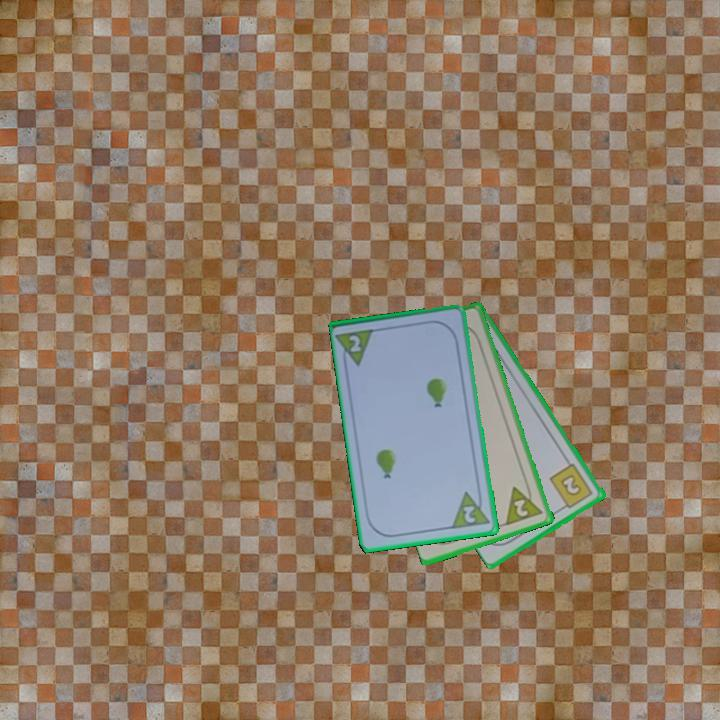2b: (546, 460, 596, 513)
2p: (503, 479, 546, 528), (460, 502, 479, 526), (345, 331, 364, 355)
